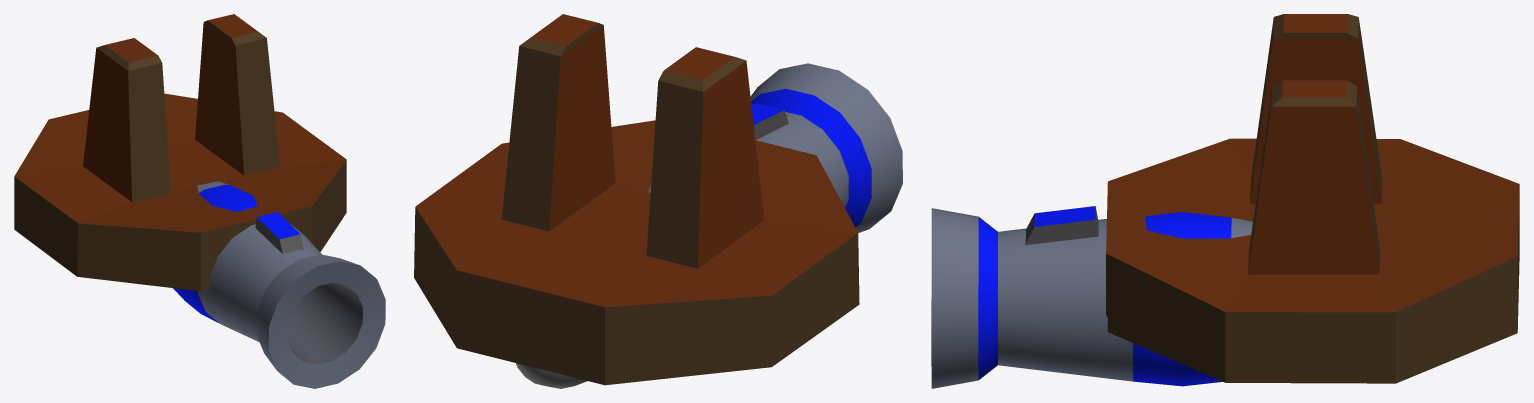
File: Cannon2.fbx
3 renders of one model, left to right at view 1: azimuth 30°, elevation 25°; view 2: azimuth 150°, elevation 25°; view 3: azimuth 270°, elevation 25°, orthographic. The views are drawn at different scales.
Parts seen in each view (by area): view 1: Rotater004, Cannon004; view 2: Rotater004, Cannon004; view 3: Rotater004, Cannon004.
Boxes of the visible parts, x1,y1,x2,y2 form: Rotater004: [14, 14, 346, 291]; Cannon004: [173, 181, 385, 388]; Rotater004: [414, 14, 859, 385]; Cannon004: [516, 63, 902, 388]; Rotater004: [1106, 14, 1519, 383]; Cannon004: [931, 206, 1252, 388].
Bounding box in the file's own units: 79.09 × 68.21 × 112.
